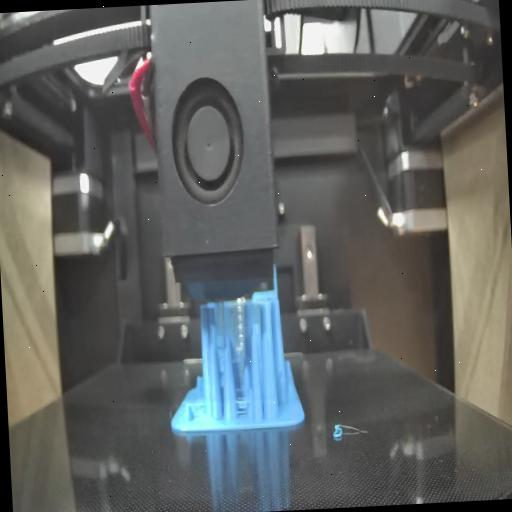stringing: (214, 302, 261, 336), (231, 388, 251, 418)
